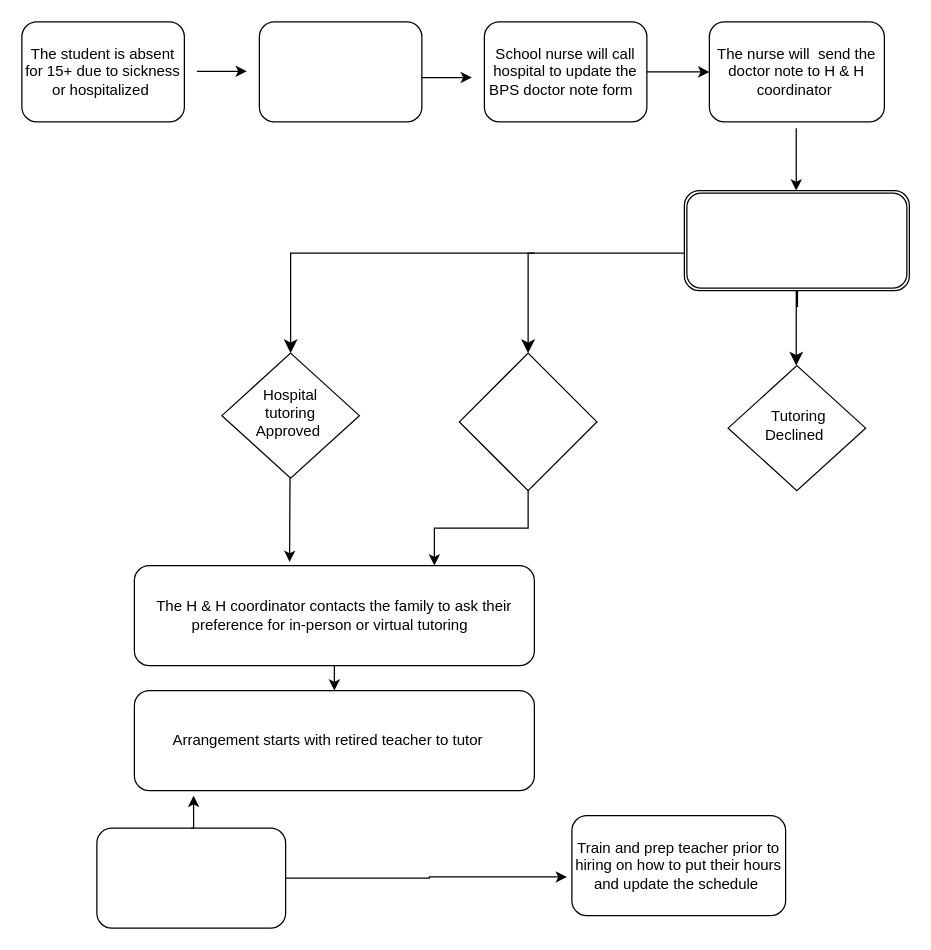
This 931x950 diagram has some shape labels left out. The shapes that lost their labels are listed below. From the top down, each one's centre as x and y in pixels, then its label:
point (340, 71): Nurse will call parents and confirm student is sick
point (796, 240): Coordinator evaluates student's status and needs
point (527, 421): Home tutoring Approved
point (191, 877): Teacher pool
